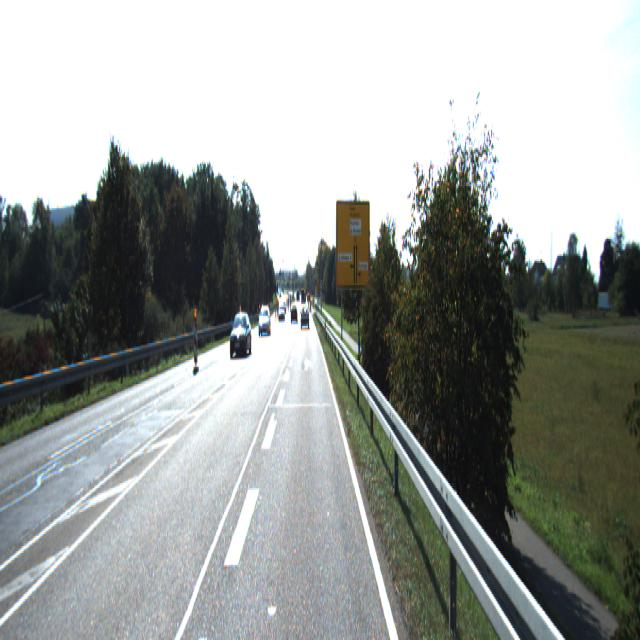Car: (230, 312, 252, 362), (258, 305, 271, 335), (301, 308, 309, 330)
